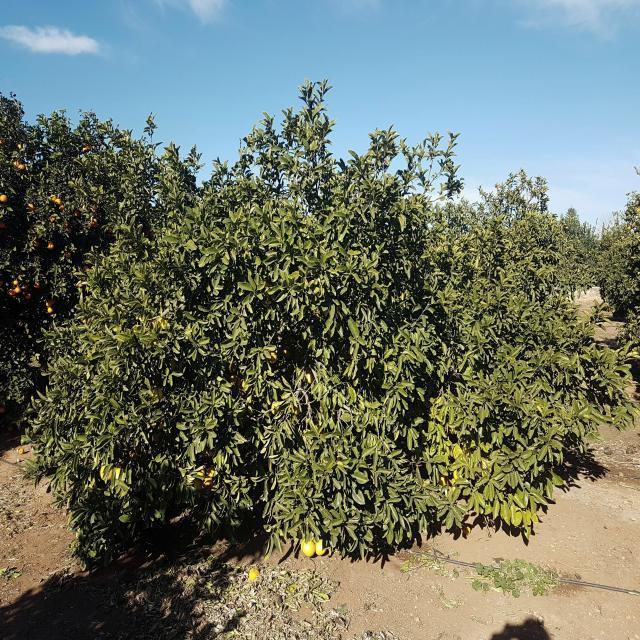Jeruk Sudah Matang: (0, 194, 8, 202), (28, 203, 34, 212), (9, 288, 16, 295), (92, 219, 98, 227), (55, 198, 61, 206), (50, 194, 56, 202), (14, 160, 20, 168), (0, 220, 6, 228), (74, 210, 80, 217), (66, 251, 72, 258), (60, 205, 66, 212), (0, 139, 6, 146), (34, 240, 40, 247), (46, 300, 53, 306), (89, 218, 93, 228), (49, 242, 54, 250), (78, 282, 84, 288), (86, 144, 92, 150), (82, 146, 88, 152), (50, 216, 56, 222), (18, 164, 24, 170), (15, 287, 21, 293), (22, 284, 28, 290), (26, 292, 32, 298), (34, 282, 40, 288), (48, 307, 54, 313), (18, 448, 24, 454), (96, 204, 102, 209), (72, 220, 77, 226), (51, 298, 56, 304), (0, 406, 5, 412), (630, 258, 635, 264), (92, 206, 96, 213), (23, 390, 28, 395), (84, 266, 88, 272), (66, 228, 72, 232), (18, 144, 22, 150), (14, 280, 18, 285), (628, 225, 632, 230), (11, 124, 14, 130), (0, 280, 3, 286), (637, 360, 640, 366), (94, 199, 98, 203), (64, 223, 68, 227), (636, 207, 640, 211), (31, 141, 34, 145), (110, 229, 112, 233), (84, 229, 86, 232)
